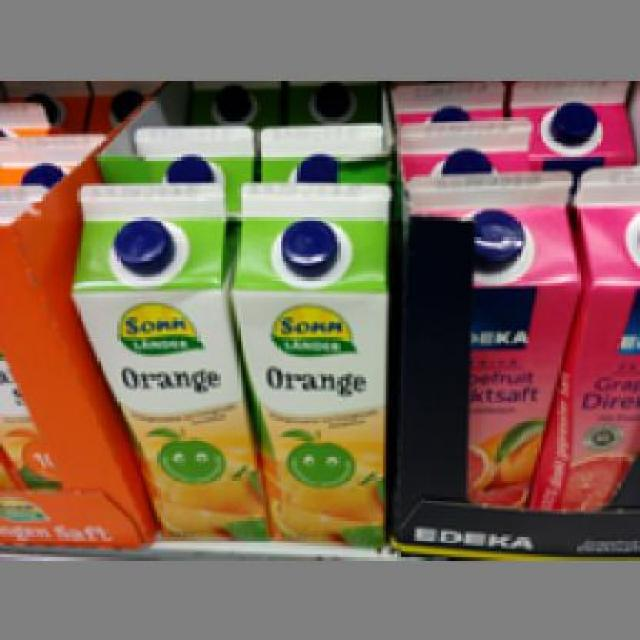Juice: (66, 180, 263, 540), (402, 166, 572, 508), (228, 174, 388, 537)
